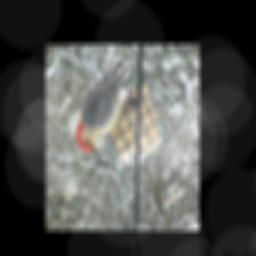Woodpecker: (76, 61, 140, 158)
